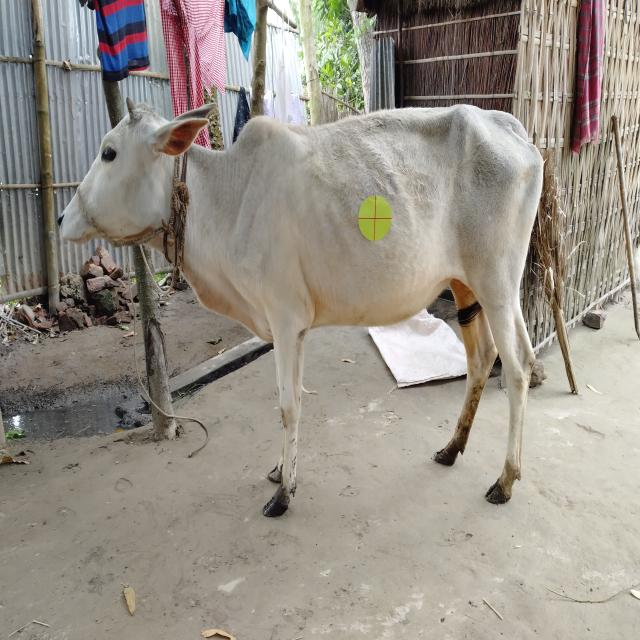badan_sapi: (237, 121, 543, 327)
sapi: (48, 78, 572, 530)
